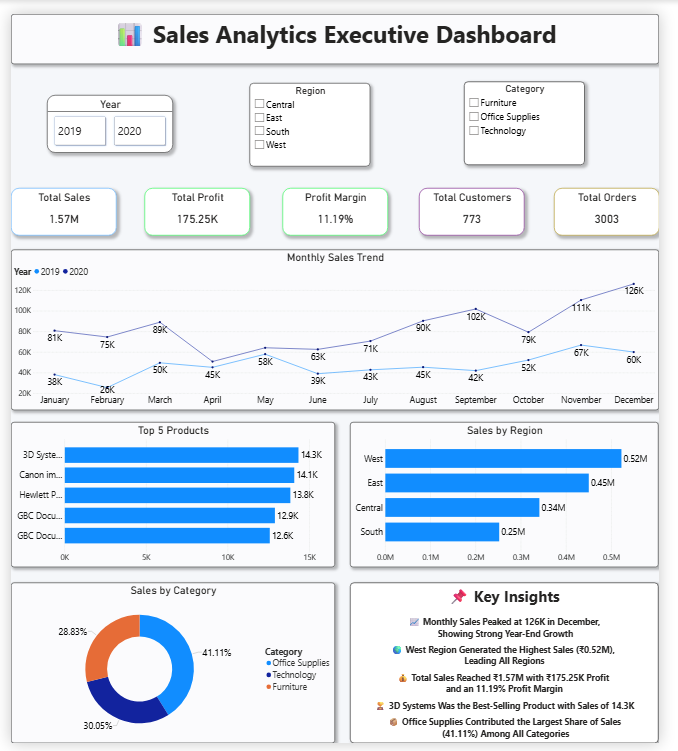

Layout of this report page (visuals, bound fields, positions):
{"tool":"powerbi","page":{"name":"Page 1","canvas":[2400,2700],"ordinal":0},"visuals":[{"type":"card","title":"Total Sales","fields":{"Values":["_Measures.Total Sales"]},"box":[0,642.9,390.5,176.2],"z":0},{"type":"card","title":"Total Profit","fields":{"Values":["_Measures.Total Profit"]},"box":[495.2,642.9,390.5,176.2],"z":1000},{"type":"card","title":"Profit Margin","fields":{"Values":["Dim_Customer.Profit Margin %"]},"box":[1004.8,642.9,390.5,176.2],"z":2000},{"type":"card","title":"Total Customers","fields":{"Values":["_Measures.Total Customers"]},"box":[1509.5,642.9,390.5,176.2],"z":3000},{"type":"card","title":"Total Orders","fields":{"Values":["_Measures.Total Orders"]},"box":[2009.5,642.9,390.5,176.2],"z":4000},{"type":"lineChart","title":"Monthly Sales Trend","fields":{"Category":["Dim_Date.Date.Variation.Date Hierarchy.Month"],"Y":["_Measures.Total Sales"],"Series":["Dim_Date.Date.Variation.Date Hierarchy.Year"]},"box":[0,871.4,2400,595.2],"z":5000},{"type":"clusteredBarChart","title":" Sales by Region","fields":{"Category":["fact table.Region"],"Y":["_Measures.Total Sales"]},"box":[1257.1,1509.5,1142.9,538.1],"z":6000},{"type":"donutChart","title":" Sales by Category","fields":{"Category":["fact table.Category"],"Y":["_Measures.Total Sales"]},"box":[0,2104.8,1200,595.2],"z":7000},{"type":"clusteredBarChart","title":"Top 5 Products","fields":{"Category":["Dim_Product.Product Name"],"Y":["_Measures.Total Sales"]},"box":[0,1509.5,1200,538.1],"z":8000},{"type":"textbox","box":[1257.1,2104.8,1142.9,595.2],"z":9000},{"type":"textbox","title":"📊 Sales Analytics Executive Dashboard","box":[0,0,2400,185.7],"z":10000},{"type":"advancedSlicerVisual","fields":{"Values":["Dim_Date.Year"]},"box":[133.3,300,466.7,214.3],"z":11000},{"type":"slicer","title":"Region","fields":{"Values":["fact table.Region"]},"box":[885.7,257.1,447.6,309.5],"z":12000},{"type":"slicer","title":"Category","fields":{"Values":["fact table.Category"]},"box":[1676.2,252.4,447.6,309.5],"z":13000}]}

Visuals, with their boxes in screenshot pixels (x1, y1, x2, y2), scaled from the page's 2400x2700 canvas onto the 678x751 screenshot:
"Total Sales" card: bbox=(0, 179, 110, 228)
"Total Profit" card: bbox=(140, 179, 250, 228)
"Profit Margin" card: bbox=(284, 179, 394, 228)
"Total Customers" card: bbox=(426, 179, 537, 228)
"Total Orders" card: bbox=(568, 179, 677, 228)
"Monthly Sales Trend" lineChart: bbox=(0, 242, 677, 408)
" Sales by Region" clusteredBarChart: bbox=(355, 420, 677, 570)
" Sales by Category" donutChart: bbox=(0, 585, 339, 750)
"Top 5 Products" clusteredBarChart: bbox=(0, 420, 339, 570)
textbox: bbox=(355, 585, 677, 750)
"📊 Sales Analytics Executive Dashboard" textbox: bbox=(0, 0, 677, 52)
advancedSlicerVisual - Dim_Date.Year: bbox=(38, 83, 169, 143)
"Region" slicer: bbox=(250, 72, 377, 158)
"Category" slicer: bbox=(474, 70, 600, 156)
